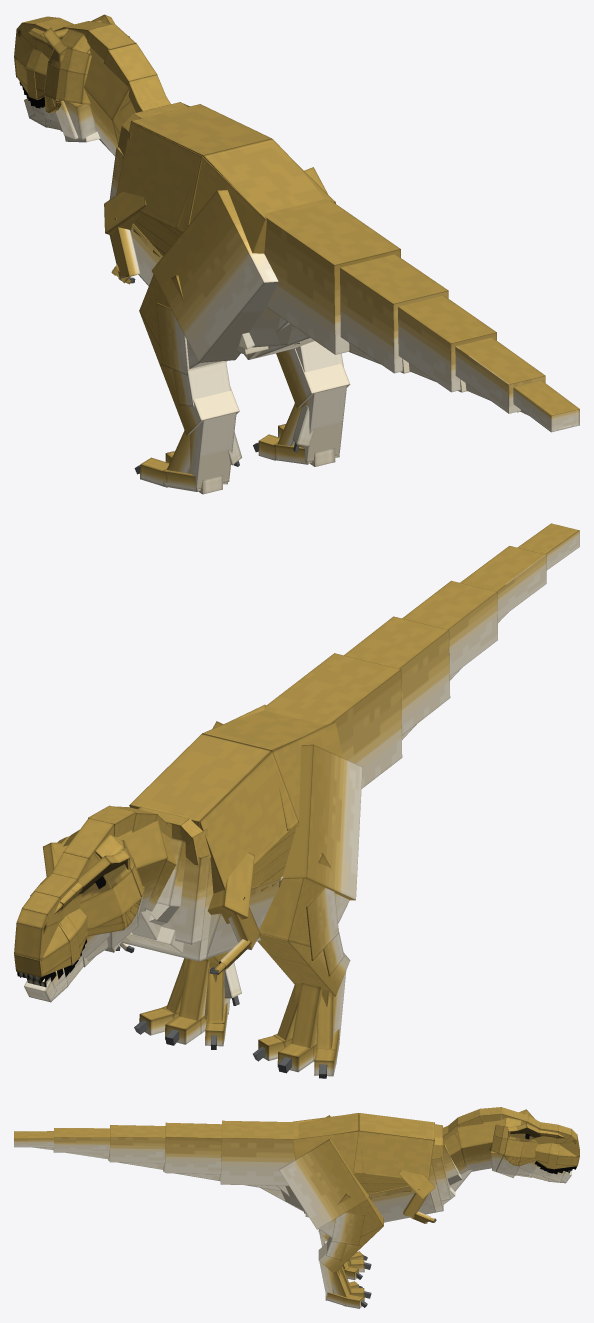
3 renders of one model, top to bottom at view 1: azimuth 30°, elevation 25°; view 2: azimuth 150°, elevation 25°; view 3: azimuth 270°, elevation 25°, orthographic. The views are drawn at different scales.
Visible parts, largest first — view 1: _gltfNode_477, _gltfNode_451, _gltfNode_455, _gltfNode_390, _gltfNode_459, _gltfNode_392, _gltfNode_463, _gltfNode_394, _gltfNode_491, _gltfNode_386, _gltfNode_541, _gltfNode_467 (+18 smaller); view 2: _gltfNode_451, _gltfNode_477, _gltfNode_390, _gltfNode_394, _gltfNode_455, _gltfNode_459, _gltfNode_463, _gltfNode_392, _gltfNode_479, _gltfNode_360, _gltfNode_386, _gltfNode_374 (+23 smaller); view 3: _gltfNode_451, _gltfNode_531, _gltfNode_376, _gltfNode_455, _gltfNode_459, _gltfNode_394, _gltfNode_463, _gltfNode_370, _gltfNode_388, _gltfNode_392, _gltfNode_537, _gltfNode_350 (+18 smaller).
Part boxes in pixels (left/top/right/bottom): _gltfNode_477: left=151, top=189, right=278, bottom=362; _gltfNode_451: left=264, top=199, right=400, bottom=354; _gltfNode_455: left=340, top=254, right=448, bottom=373; _gltfNode_390: left=116, top=122, right=203, bottom=232; _gltfNode_459: left=398, top=295, right=496, bottom=392; _gltfNode_392: left=203, top=139, right=323, bottom=213; _gltfNode_463: left=455, top=337, right=545, bottom=413; _gltfNode_394: left=131, top=104, right=271, bottom=156; _gltfNode_491: left=189, top=412, right=236, bottom=489; _gltfNode_386: left=175, top=157, right=266, bottom=253; _gltfNode_541: left=299, top=385, right=346, bottom=462; _gltfNode_467: left=513, top=380, right=579, bottom=432; _gltfNode_451: left=264, top=653, right=402, bottom=788; _gltfNode_477: left=282, top=744, right=362, bottom=900; _gltfNode_390: left=199, top=751, right=298, bottom=893; _gltfNode_394: left=129, top=734, right=270, bottom=827; _gltfNode_455: left=344, top=616, right=450, bottom=735; _gltfNode_459: left=402, top=580, right=497, bottom=676; _gltfNode_463: left=460, top=546, right=546, bottom=619; _gltfNode_392: left=202, top=710, right=324, bottom=751; _gltfNode_479: left=259, top=878, right=323, bottom=946; _gltfNode_360: left=161, top=855, right=212, bottom=944; _gltfNode_386: left=273, top=722, right=342, bottom=830; _gltfNode_374: left=206, top=878, right=280, bottom=958; _gltfNode_451: left=220, top=1120, right=298, bottom=1185; _gltfNode_531: left=279, top=1138, right=369, bottom=1229; _gltfNode_376: left=353, top=1131, right=434, bottom=1179; _gltfNode_455: left=164, top=1122, right=221, bottom=1174; _gltfNode_459: left=109, top=1125, right=165, bottom=1163; _gltfNode_394: left=359, top=1113, right=434, bottom=1144; _gltfNode_463: left=53, top=1128, right=109, bottom=1152; _gltfNode_370: left=367, top=1186, right=435, bottom=1221; _gltfNode_388: left=292, top=1131, right=364, bottom=1174; _gltfNode_392: left=298, top=1113, right=358, bottom=1138; _gltfNode_537: left=331, top=1212, right=364, bottom=1245; _gltfNode_350: left=456, top=1119, right=503, bottom=1148.
Bounding box in the file's own units: 32.72 × 53.59 × 158.
